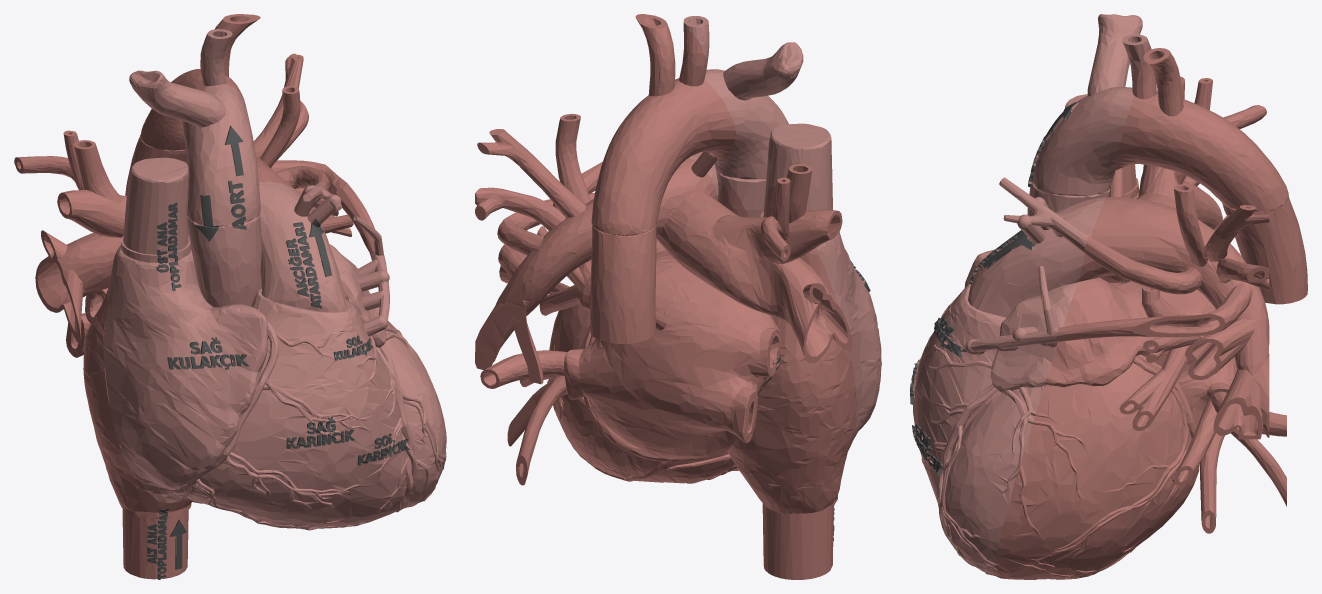
File: kalp.glb
3 renders of one model, left to right at view 1: azimuth 30°, elevation 25°; view 2: azimuth 150°, elevation 25°; view 3: azimuth 270°, elevation 25°, orthographic. The views are drawn at different scales.
Parts seen in each view (by area): view 1: on|on, arka|arka, on|yazi, arka|yazi; view 2: arka|arka, on|on; view 3: arka|arka, on|on, on|yazi.
Boxes of the visible parts, x1=… form: on|on: x1=103, y1=29, x2=446, y2=530; arka|arka: x1=14, y1=14, x2=426, y2=579; on|yazi: x1=156, y1=126, x2=410, y2=465; arka|yazi: x1=94, y1=315, x2=186, y2=579; arka|arka: x1=475, y1=14, x2=856, y2=579; on|on: x1=683, y1=16, x2=881, y2=440; arka|arka: x1=994, y1=43, x2=1307, y2=579; on|on: x1=910, y1=14, x2=1148, y2=575; on|yazi: x1=910, y1=102, x2=1077, y2=476.
Size of the model in its own units: 119 by 188 by 129.
